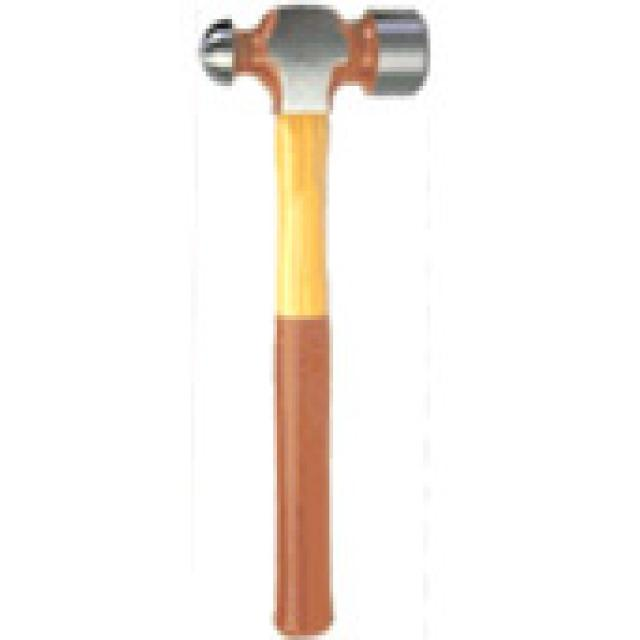hammer: (145, 0, 445, 630)
